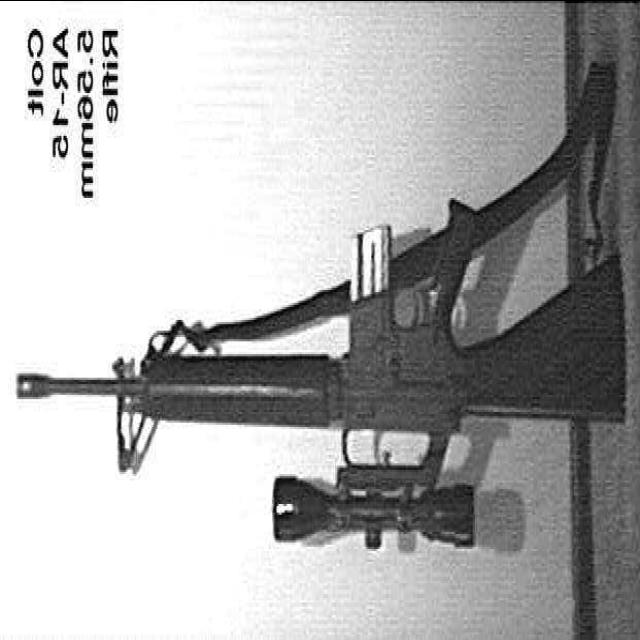heavyweapon: (10, 209, 630, 583)
